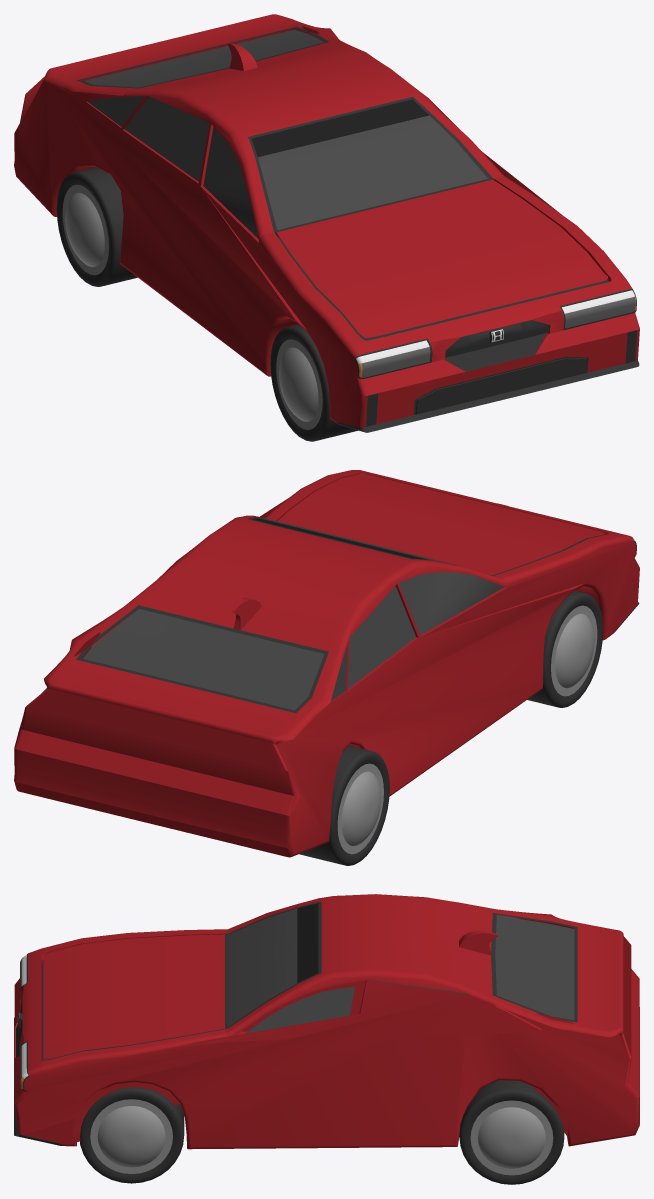
File: car-sedanTEST.fbx
The picture shows the model from 3 angles, top to bottom: view 1: azimuth 30°, elevation 25°; view 2: azimuth 150°, elevation 25°; view 3: azimuth 270°, elevation 25°; orthographic projection. The views are drawn at different scales.
Parts seen in each view (by area): view 1: Cube, Cube.002, Cylinder.002, Cylinder.003, Cube.001, Cube.004, Cube.003, Cube.005; view 2: Cube, Cube.001, Cylinder.002, Cylinder.003, Cube.003, Cube.004, Cube.002; view 3: Cube, Cylinder.001, Cylinder, Cube.002, Cube.001, Cube.009.
Part boxes in pixels (left/top/right/bottom): Cube: left=14, top=14, right=639, bottom=432; Cube.002: left=251, top=99, right=487, bottom=229; Cylinder.002: left=56, top=167, right=137, bottom=286; Cylinder.003: left=270, top=324, right=357, bottom=441; Cube.001: left=84, top=29, right=323, bottom=87; Cube.004: left=125, top=96, right=209, bottom=181; Cube.003: left=203, top=127, right=258, bottom=238; Cube.005: left=88, top=96, right=144, bottom=126; Cube: left=14, top=470, right=639, bottom=857; Cube.001: left=83, top=609, right=324, bottom=710; Cylinder.002: left=299, top=745, right=389, bottom=865; Cylinder.003: left=527, top=590, right=603, bottom=707; Cube.003: left=398, top=572, right=504, bottom=635; Cube.004: left=348, top=587, right=415, bottom=688; Cube.002: left=252, top=518, right=452, bottom=564; Cube: left=14, top=894, right=639, bottom=1149; Cylinder.001: left=459, top=1080, right=564, bottom=1184; Cylinder: left=80, top=1087, right=184, bottom=1183; Cube.002: left=227, top=903, right=318, bottom=1026; Cube.001: left=495, top=915, right=574, bottom=1019; Cube.009: left=245, top=986, right=355, bottom=1033.
Bounding box in the file's own units: 646 × 451 × 1327.
